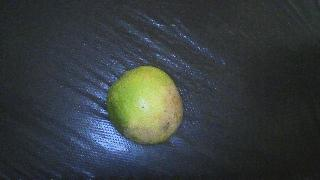DESECHO: (106, 66, 183, 145)
